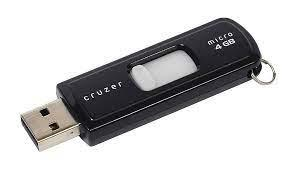Flash-drive: (8, 18, 295, 144)
